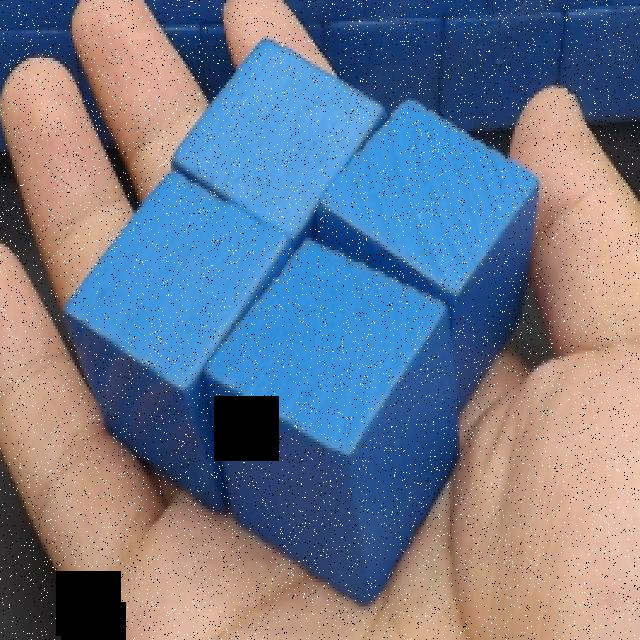bluecube: (201, 236, 460, 608), (63, 173, 296, 513), (317, 96, 539, 418), (168, 38, 390, 245), (440, 13, 564, 133), (325, 20, 442, 111), (557, 6, 639, 127)
